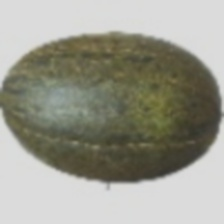honeydew: (0, 44, 187, 194)
